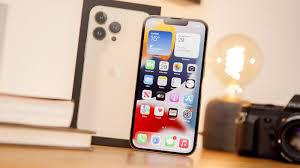Smartphone: (140, 17, 198, 156), (88, 3, 137, 133)
